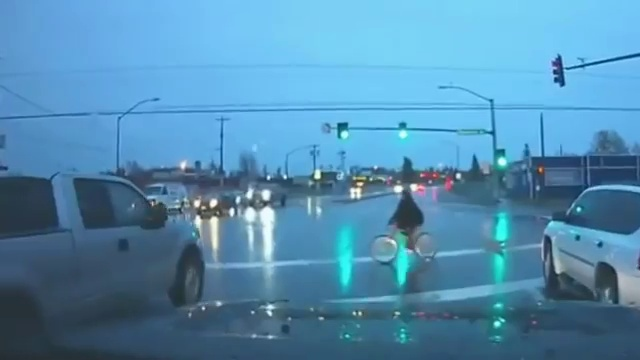cyclist_side: (367, 182, 446, 265)
